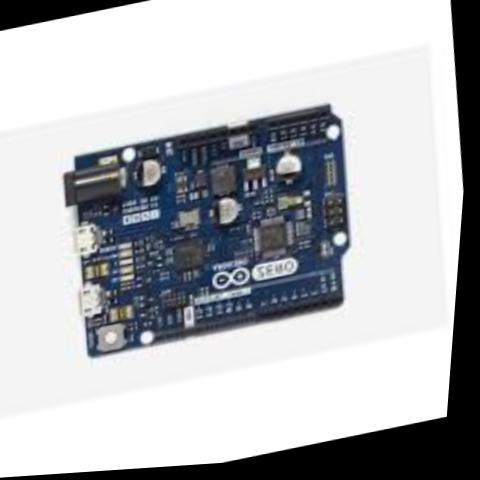Arduino-Zero: (43, 83, 390, 386)
